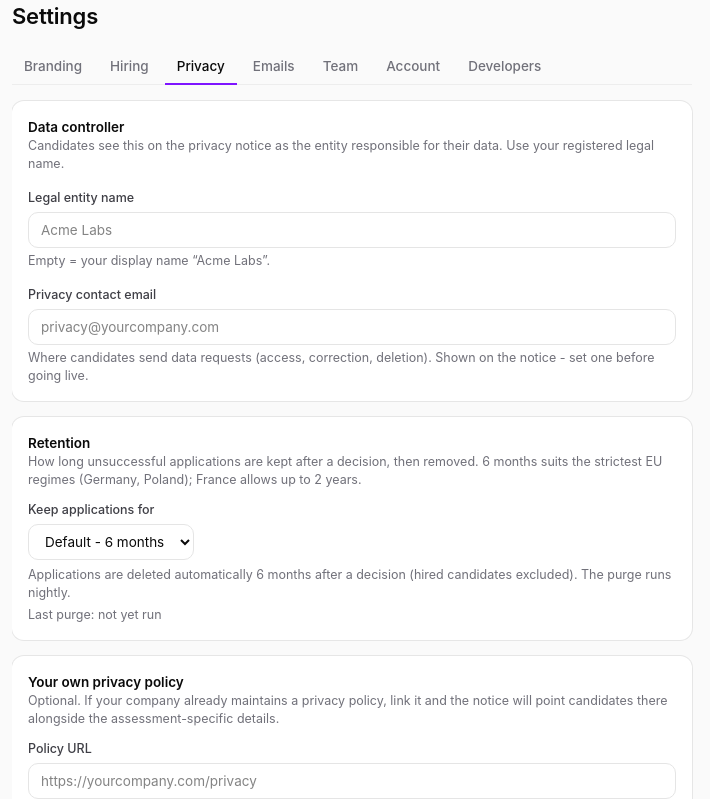
Scenario: PrivacySettingsPage › surfaces a save failure and keeps the form
In the field labelled "Privacy contact email": [352, 327] box [28,309,676,345], type "nope"
(page scrolled)
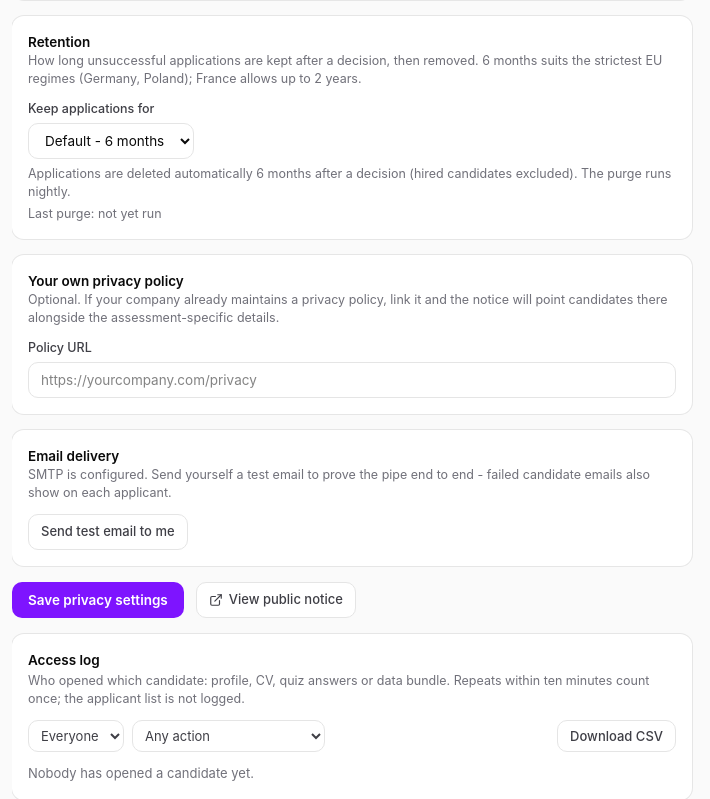
Click the button "Save privacy settings": [98, 600] box [12,582,184,618]
(page scrolled)
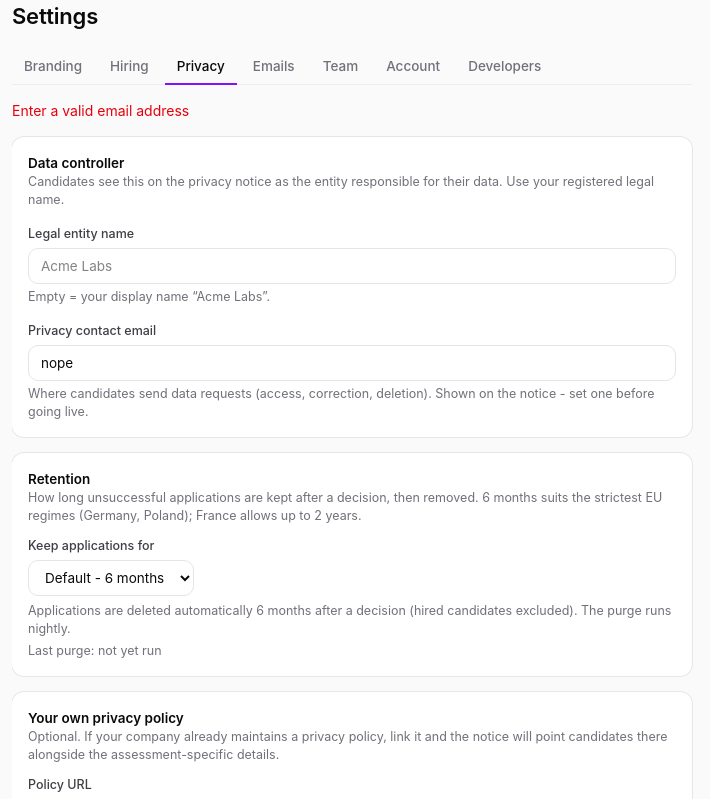
Expected: the message reads "Enter a valid email address", [12,102,189,119]
